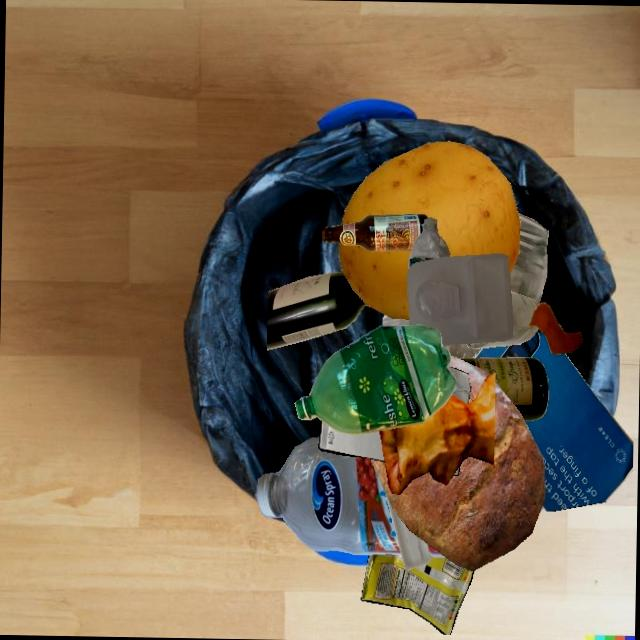biowaste: (370, 381, 545, 571), (341, 141, 520, 275), (379, 372, 495, 494), (338, 242, 411, 319), (528, 302, 583, 354)
glass: (266, 271, 367, 350), (457, 357, 548, 421), (466, 290, 538, 349), (321, 214, 427, 251), (509, 212, 548, 306)
paper: (474, 332, 633, 511), (376, 404, 467, 475)
plastic: (294, 324, 456, 434), (256, 436, 401, 555), (406, 253, 513, 345), (384, 491, 430, 570), (408, 217, 449, 269), (382, 314, 409, 325), (366, 305, 369, 306)
trash: (360, 553, 474, 634)
